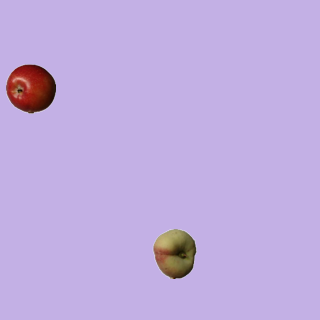Apple Braeburn: (5, 63, 55, 113)
Peach Flat: (149, 228, 199, 278)
